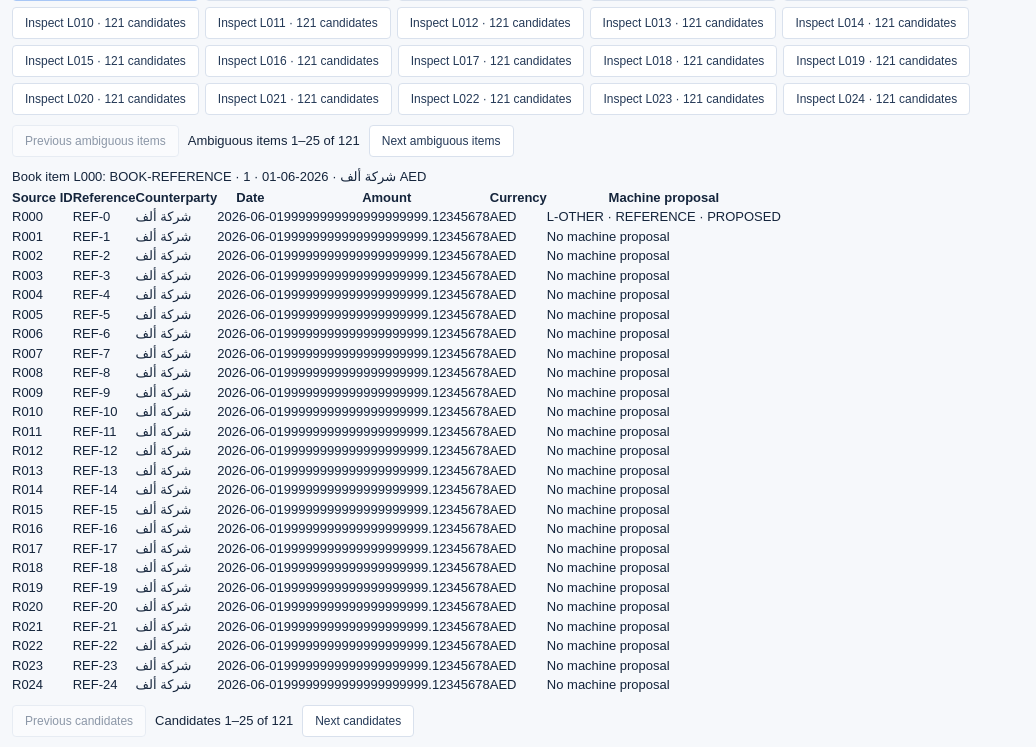
retains exact source text and amounts and resets candidate paging for a new book item
This screenshot has width=1036, height=747.
(page scrolled)
Expected: the cell "L-OTHER · REFERENCE · PROPOSED" is shown, top-left (547, 207), bottom-right (781, 227)
Step 1. Click the button "Next candidates" → click(358, 721), box top-left (302, 705), bottom-right (414, 737)
(page scrolled)
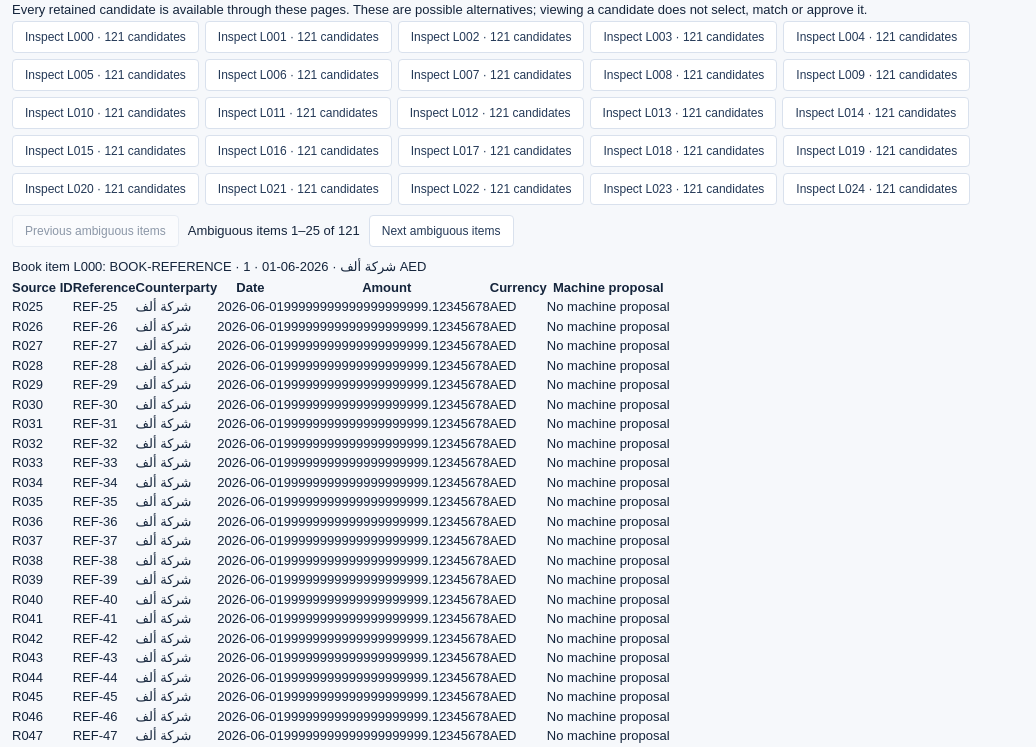
Step 2. Click the button "Inspect L001 · 121 candidates" → click(298, 37), box top-left (205, 21), bottom-right (392, 53)
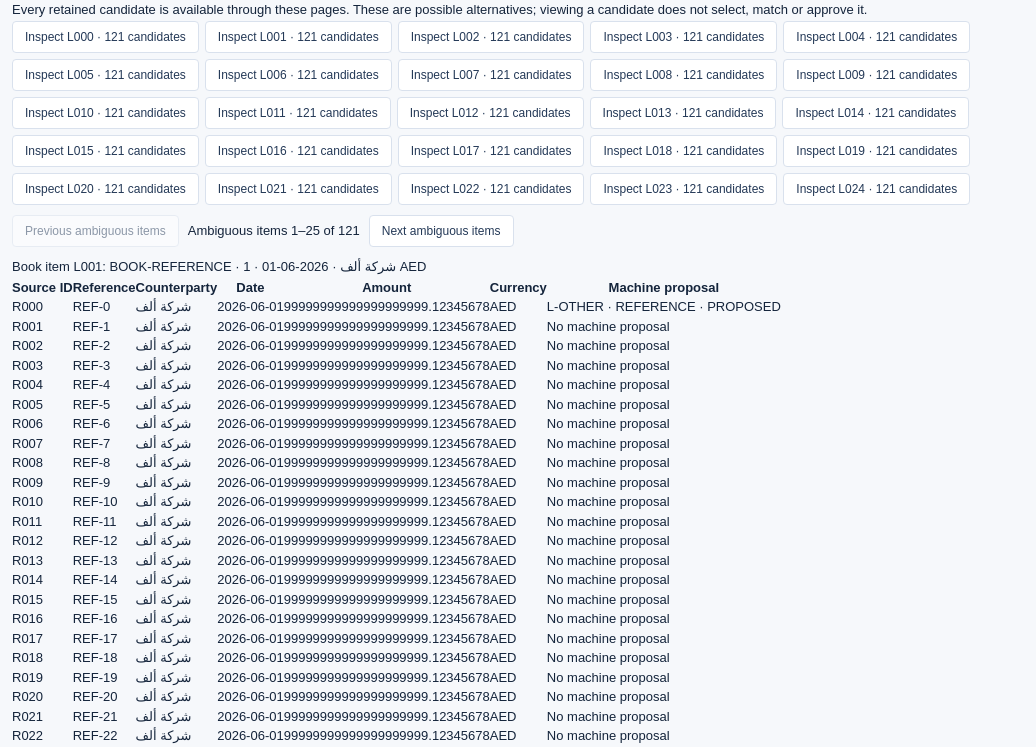
Expected: the cell "R000" is shown, top-left (12, 297), bottom-right (73, 317)
